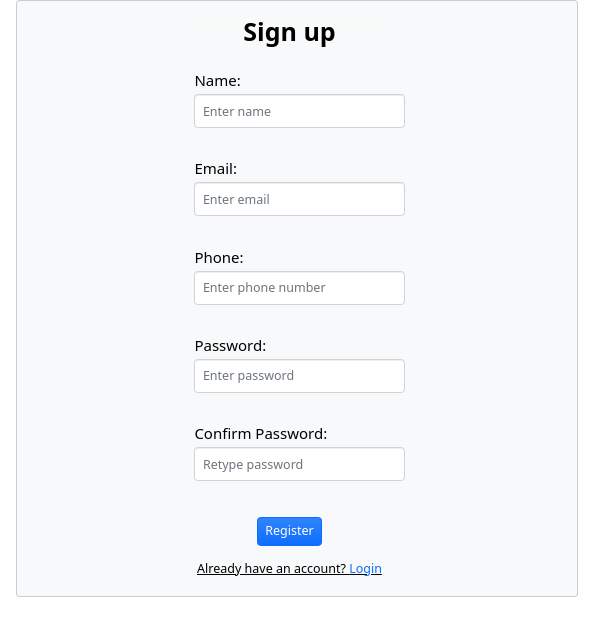
Test: Register › name verification
The width and height of the screenshot is (595, 640).
In the field with test id "name": (300, 111) [194,94,405,128], type "E#@$G"
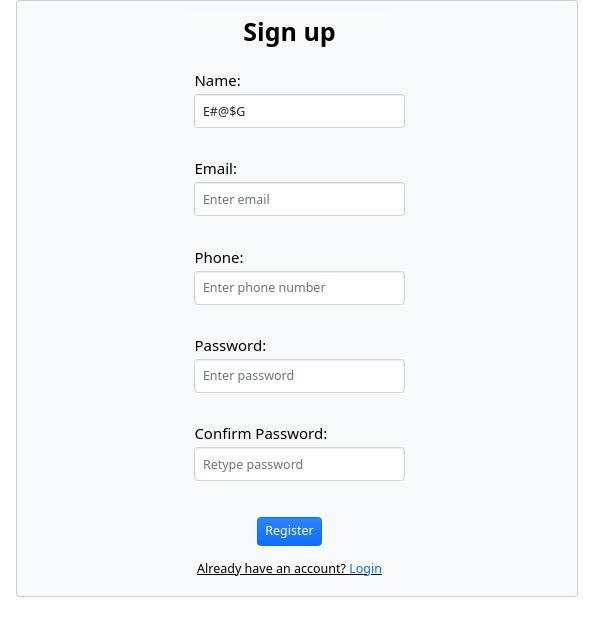
Leave the field with test id "name", box [194,94,405,128]
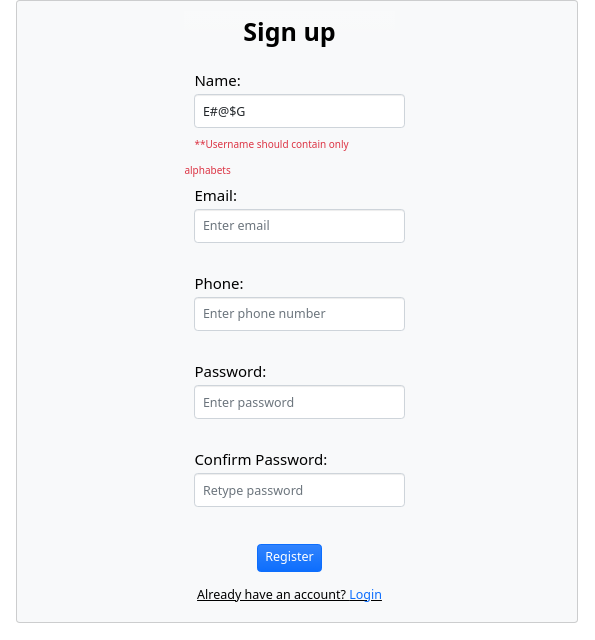
Check: the text "**Username should contain only alphabets" is shown, box [184,137,349,177]
